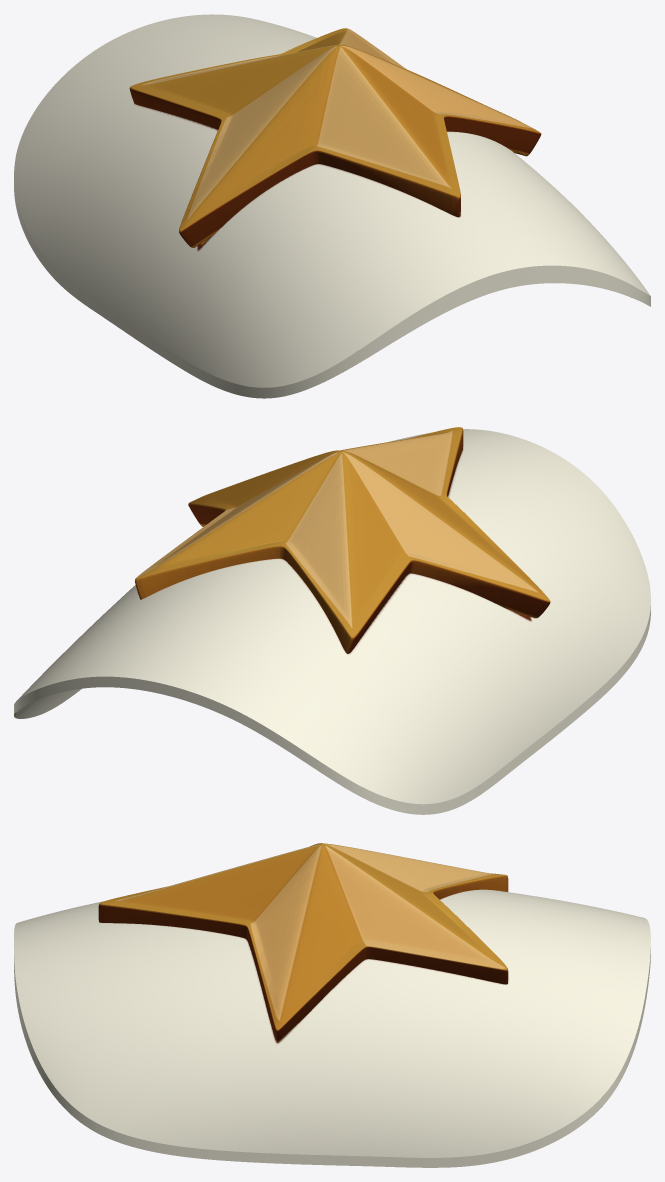
Rendered from MF_shengdanjie_zhongzhi_R_fy02.obj.
3 views of the same model, one above another, from view 1: azimuth 30°, elevation 25°; view 2: azimuth 150°, elevation 25°; view 3: azimuth 270°, elevation 25° (orthographic). The views are drawn at different scales.
Visible parts, largest first — view 1: MF_shengdanjie_zhongzhi_R_fy02 MF_shengdanjie_zhongzhi_R_fy02; view 2: MF_shengdanjie_zhongzhi_R_fy02 MF_shengdanjie_zhongzhi_R_fy02; view 3: MF_shengdanjie_zhongzhi_R_fy02 MF_shengdanjie_zhongzhi_R_fy02.
Part boxes in pixels (box(x1,y1,x2,y2)): MF_shengdanjie_zhongzhi_R_fy02 MF_shengdanjie_zhongzhi_R_fy02: box(14, 14, 650, 398); MF_shengdanjie_zhongzhi_R_fy02 MF_shengdanjie_zhongzhi_R_fy02: box(14, 427, 650, 814); MF_shengdanjie_zhongzhi_R_fy02 MF_shengdanjie_zhongzhi_R_fy02: box(14, 843, 650, 1167).
Size of the model in its own units: 12 by 6.96 by 17.42.
Materials: 1 (1 with a texture image).
